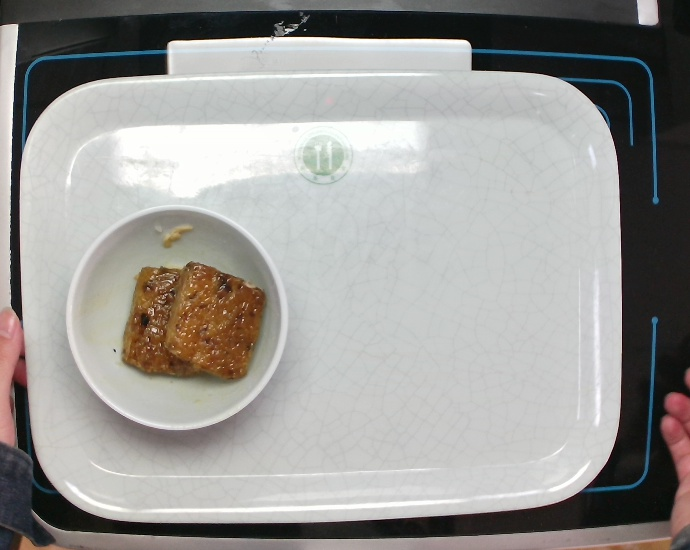JYsf-Fan_Wan: (62, 202, 289, 432)
